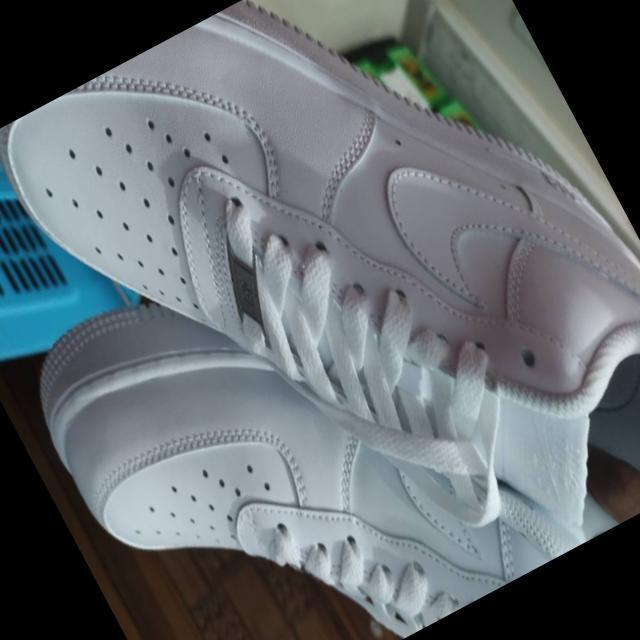nike original air force: (0, 0, 640, 640), (5, 142, 615, 640)
